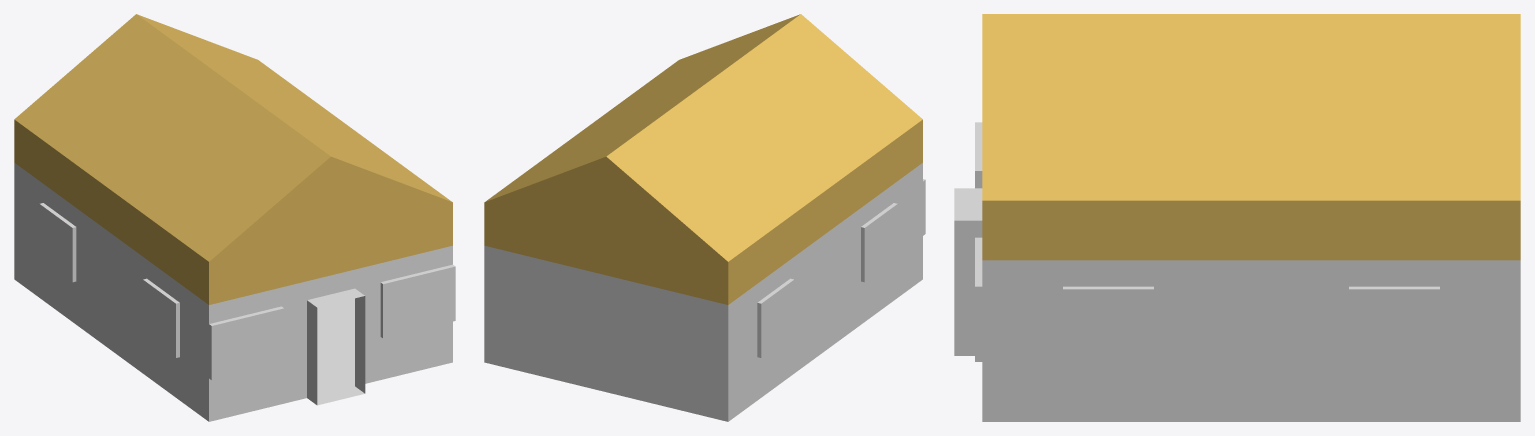
File: Binnenkant huis.fbx
The picture shows the model from 3 angles, left to right: view 1: azimuth 30°, elevation 25°; view 2: azimuth 150°, elevation 25°; view 3: azimuth 270°, elevation 25°; orthographic projection. The views are drawn at different scales.
Visible parts, largest first — view 1: Binnenkant huis; view 2: Binnenkant huis; view 3: Binnenkant huis.
Part boxes in pixels (x1,y1,x2,y2): Binnenkant huis: (14,14,455,421); Binnenkant huis: (484,14,925,421); Binnenkant huis: (954,14,1520,421).
Bounding box in the file's own units: 6.48 × 5.8 × 9.14.
